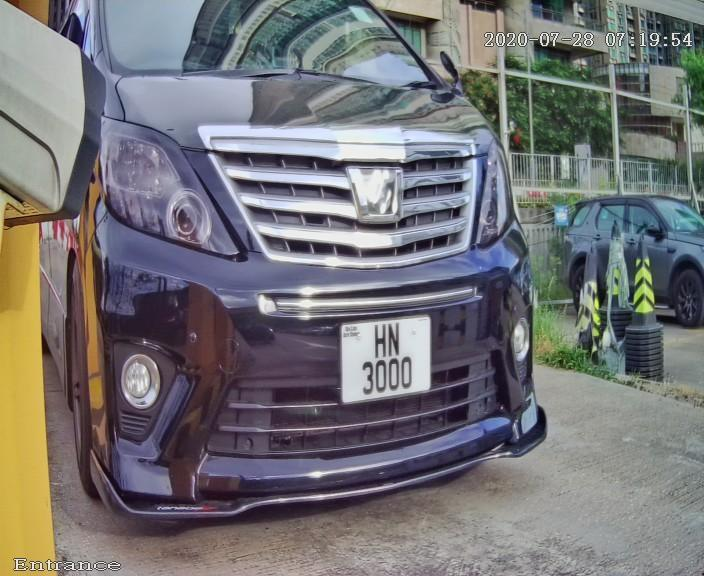privatecar: (16, 29, 645, 553)
